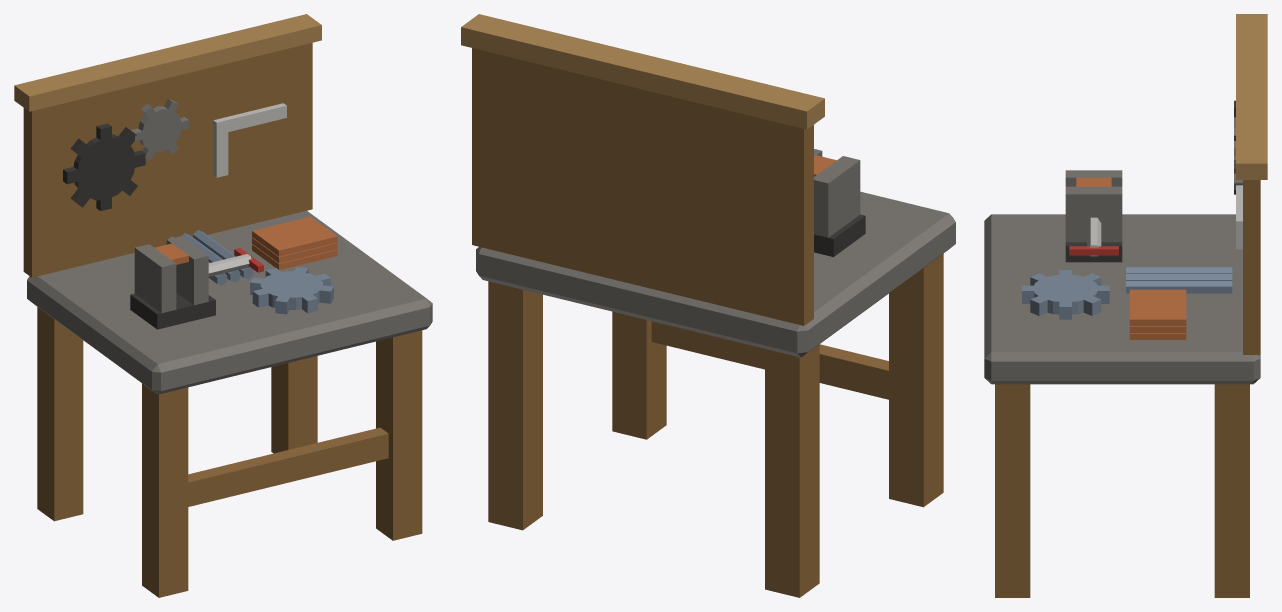
3 views of the same model, side by side, from view 1: azimuth 30°, elevation 25°; view 2: azimuth 150°, elevation 25°; view 3: azimuth 270°, elevation 25° (orthographic). The views are drawn at different scales.
Parts seen in each view (by area): view 1: wb_part; view 2: wb_part; view 3: wb_part.
Boxes of the visible parts, x1,y1,x2,y2 form: wb_part: (14, 14, 432, 597); wb_part: (461, 14, 955, 597); wb_part: (984, 14, 1267, 597).
Size of the model in its own units: 3 by 4.13 by 2.4.
